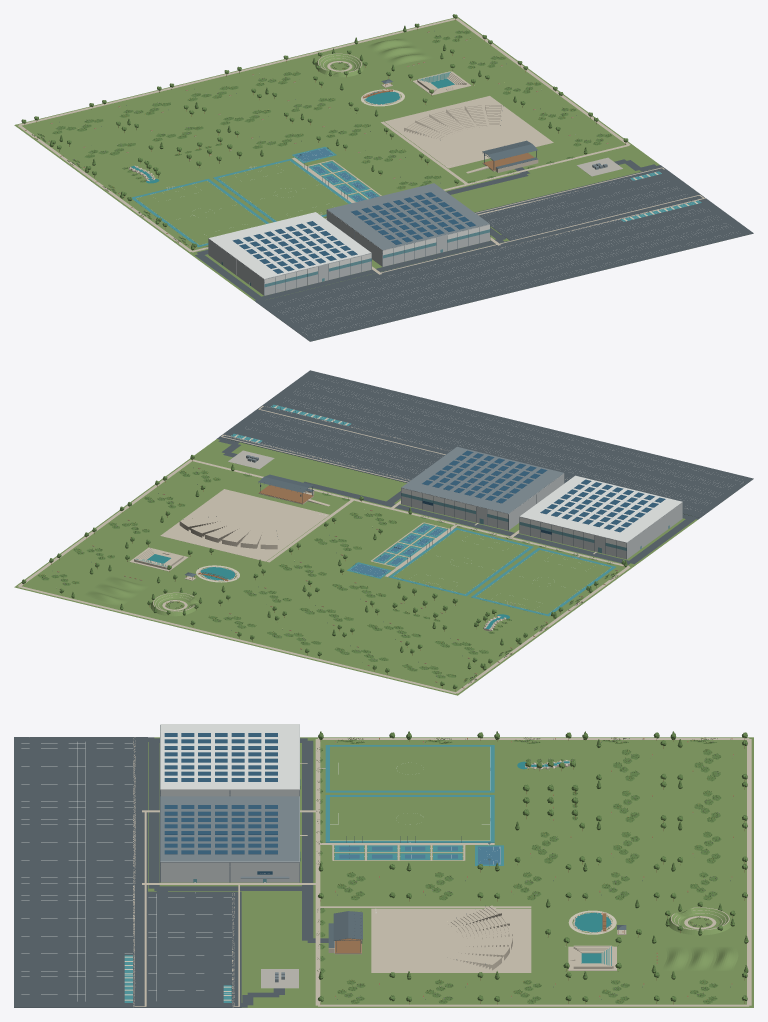
File: option-04.glb
3 renders of one model, top to bottom at view 1: azimuth 30°, elevation 25°; view 2: azimuth 150°, elevation 25°; view 3: azimuth 270°, elevation 25°, orthographic. The views are drawn at different scales.
Parts seen in each view (by area): view 1: 30 acre outdoor activity allocation, option-04-lot-1 actual paved lot, option-04 assumed site platform, option-04 Landscape Paved audience reservation 8000 concept , soccer-1 playing surface, soccer-2 playing surface, option-04-lot-2 actual paved lot, Roof_events flat_truss_solar insulated roof.001, Roof_sports flat_truss_solar insulated roof.001, Roof_sports flat_truss_solar insulated roof, Roof_events flat_truss_solar insulated roof, option-04 Landscape Native tree lobed canopy (+10 smaller); view 2: 30 acre outdoor activity allocation, option-04-lot-1 actual paved lot, option-04 assumed site platform, option-04 Landscape Paved audience reservation 8000 concept , soccer-2 playing surface, soccer-1 playing surface, option-04-lot-2 actual paved lot, Roof_sports flat_truss_solar insulated roof.001, Roof_events flat_truss_solar insulated roof.001, Roof_sports flat_truss_solar insulated roof, Roof_events flat_truss_solar insulated roof, option-04 Landscape Native tree lobed canopy (+10 smaller); view 3: 30 acre outdoor activity allocation, option-04-lot-1 actual paved lot, option-04 Landscape Paved audience reservation 8000 concept , option-04 assumed site platform, soccer-1 playing surface, soccer-2 playing surface, option-04-lot-2 actual paved lot, Roof_sports flat_truss_solar insulated roof.001, Roof_events flat_truss_solar insulated roof.001, Roof_sports flat_truss_solar insulated roof, Roof_events flat_truss_solar insulated roof, option-04 Landscape Native tree lobed canopy (+26 smaller).
Boxes of the visible parts, x1,y1,x2,y2 form: 30 acre outdoor activity allocation: [14, 17, 633, 253]; option-04-lot-1 actual paved lot: [256, 194, 753, 341]; option-04 assumed site platform: [190, 146, 659, 301]; option-04 Landscape Paved audience reservation 8000 concept : [384, 96, 553, 168]; soccer-1 playing surface: [136, 181, 265, 245]; soccer-2 playing surface: [218, 160, 348, 221]; option-04-lot-2 actual paved lot: [475, 166, 699, 240]; Roof_events flat_truss_solar insulated roof.001: [327, 183, 461, 229]; Roof_sports flat_truss_solar insulated roof.001: [208, 212, 343, 258]; Roof_sports flat_truss_solar insulated roof: [236, 232, 371, 278]; Roof_events flat_truss_solar insulated roof: [355, 203, 489, 250]; option-04 Landscape Native tree lobed canopy: [21, 14, 628, 247]; 30 acre outdoor activity allocation: [14, 458, 633, 695]; option-04-lot-1 actual paved lot: [257, 370, 753, 517]; option-04 assumed site platform: [193, 439, 698, 566]; option-04 Landscape Paved audience reservation 8000 concept : [160, 489, 329, 561]; soccer-2 playing surface: [394, 530, 528, 593]; soccer-1 playing surface: [476, 550, 610, 614]; option-04-lot-2 actual paved lot: [219, 409, 444, 482]; Roof_sports flat_truss_solar insulated roof.001: [520, 496, 654, 542]; Roof_events flat_truss_solar insulated roof.001: [401, 467, 535, 513]; Roof_sports flat_truss_solar insulated roof: [548, 475, 682, 521]; Roof_events flat_truss_solar insulated roof: [429, 446, 563, 493]; option-04 Landscape Native tree lobed canopy: [21, 455, 625, 688]; 30 acre outdoor activity allocation: [313, 737, 753, 1007]; option-04-lot-1 actual paved lot: [14, 737, 147, 1007]; option-04 Landscape Paved audience reservation 8000 concept : [371, 908, 531, 972]; option-04 assumed site platform: [148, 737, 313, 1007]; soccer-1 playing surface: [330, 746, 489, 790]; soccer-2 playing surface: [330, 797, 489, 840]; option-04-lot-2 actual paved lot: [148, 891, 241, 1007]; Roof_sports flat_truss_solar insulated roof.001: [230, 724, 299, 789]; Roof_events flat_truss_solar insulated roof.001: [230, 796, 299, 861]; Roof_sports flat_truss_solar insulated roof: [160, 724, 229, 789]; Roof_events flat_truss_solar insulated roof: [160, 796, 229, 861]; option-04 Landscape Native tree lobed canopy: [318, 732, 747, 1001].
Bounding box in the file's own units: 420 × 16.43 × 485.
